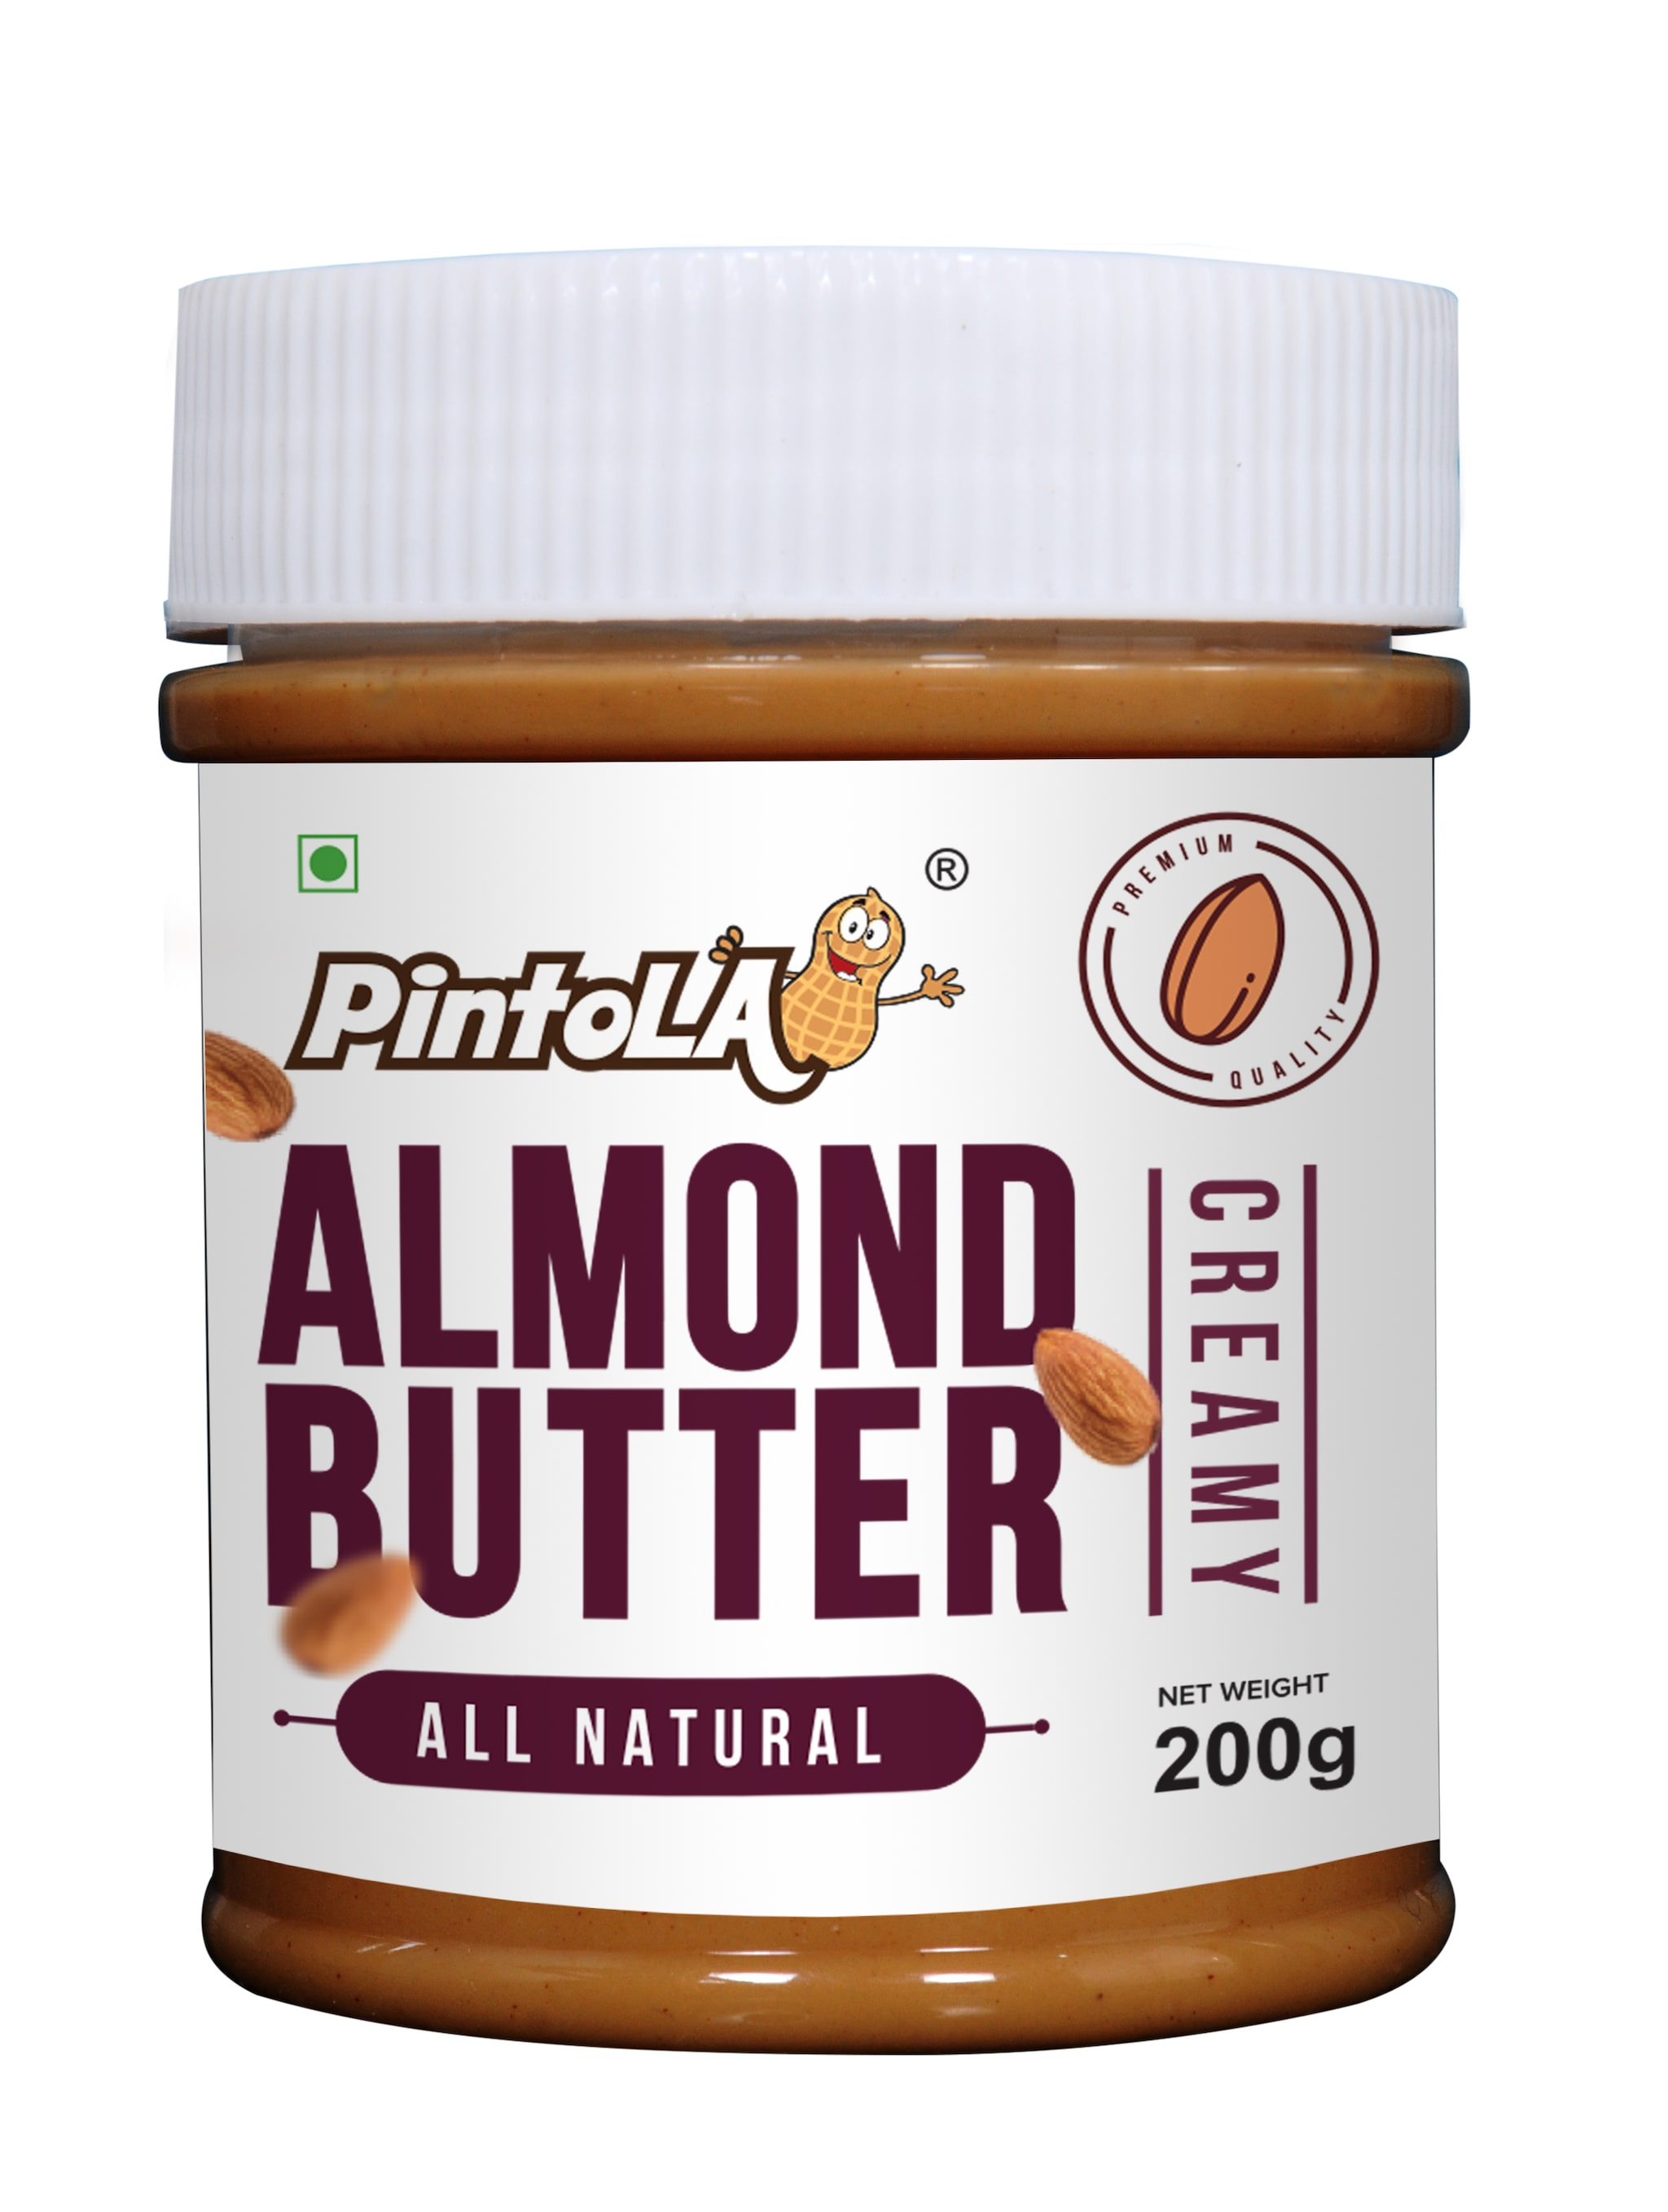JAR: (135, 224, 1500, 2072)
